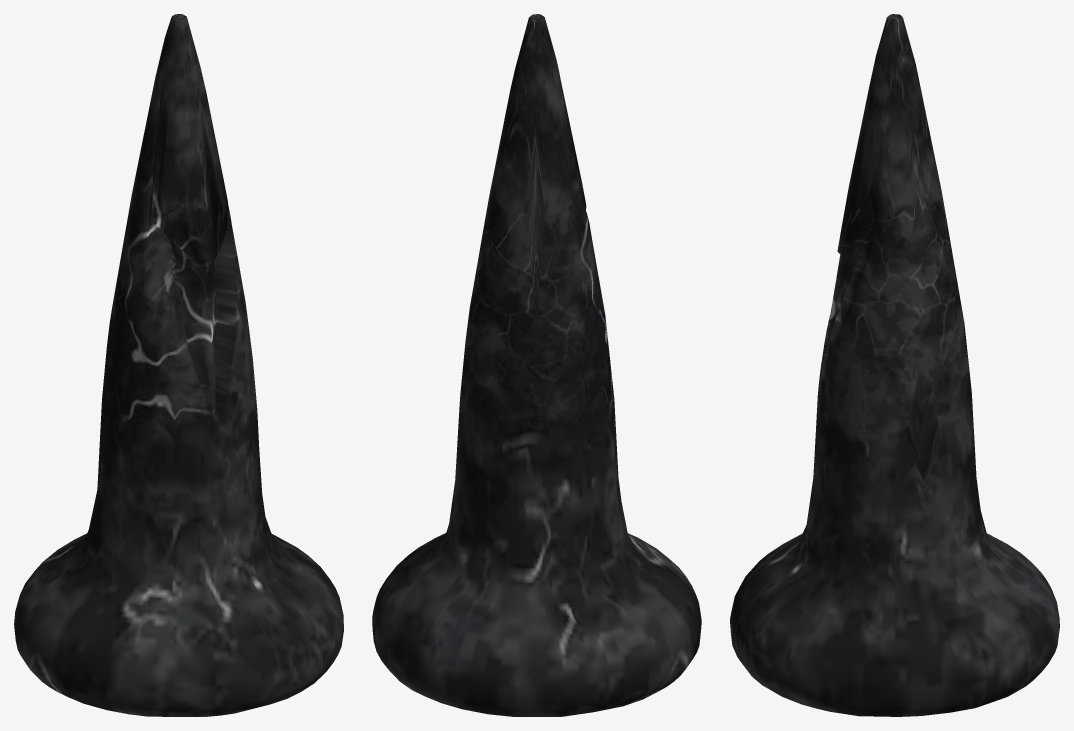
The model's file is Serpentina_king_black.glb.
3 views of the same model, side by side, from view 1: azimuth 30°, elevation 25°; view 2: azimuth 150°, elevation 25°; view 3: azimuth 270°, elevation 25° (orthographic).
Parts seen in each view (by area): view 1: Serpentina_king_black; view 2: Serpentina_king_black; view 3: Serpentina_king_black.
Part boxes in pixels (x1,y1,x2,y2): Serpentina_king_black: (14,14,343,716); Serpentina_king_black: (372,14,701,716); Serpentina_king_black: (730,14,1059,716).
Bounding box in the file's own units: 0.0454 × 0.0969 × 0.0454.
1 material, 1 textured.
